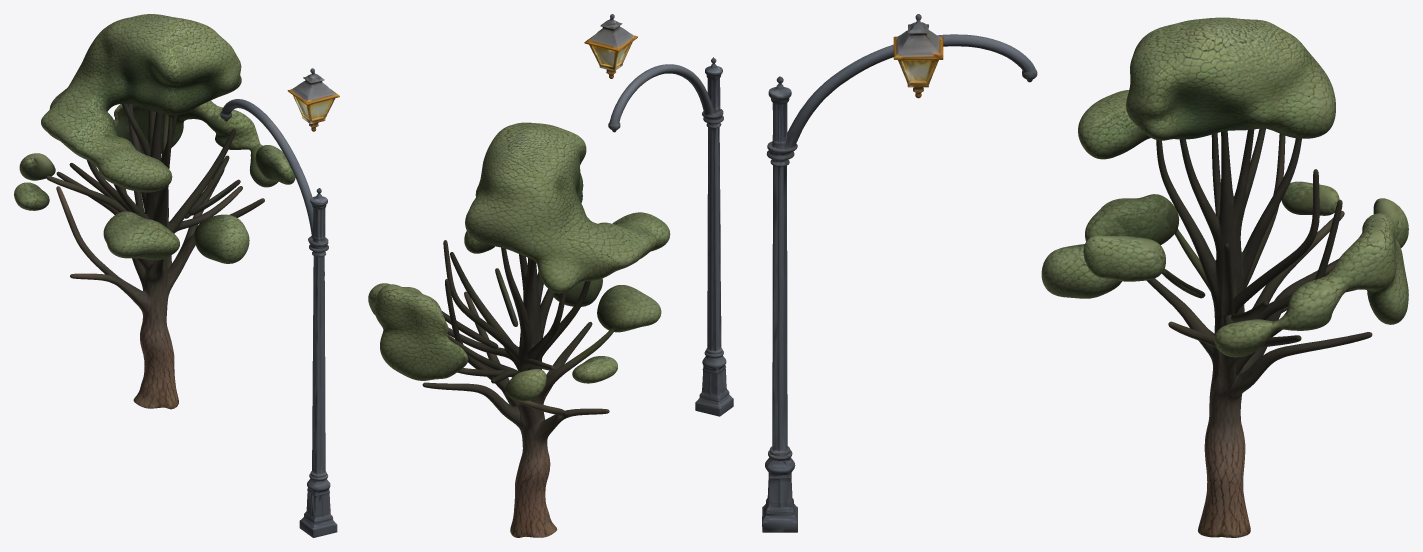
Rendered from car-street-prop-v2.glb.
3 views of the same model, side by side, from view 1: azimuth 30°, elevation 25°; view 2: azimuth 150°, elevation 25°; view 3: azimuth 270°, elevation 25° (orthographic). The views are drawn at different scales.
Visible parts, largest first — view 1: node_0; view 2: node_0; view 3: node_0.
Part boxes in pixels (bbox=[...]): node_0: bbox=[14, 14, 339, 537]; node_0: bbox=[368, 14, 733, 537]; node_0: bbox=[762, 14, 1408, 537].
Bounding box in the file's own units: 0.4962 × 0.8103 × 0.878.
1 material, 1 textured.
